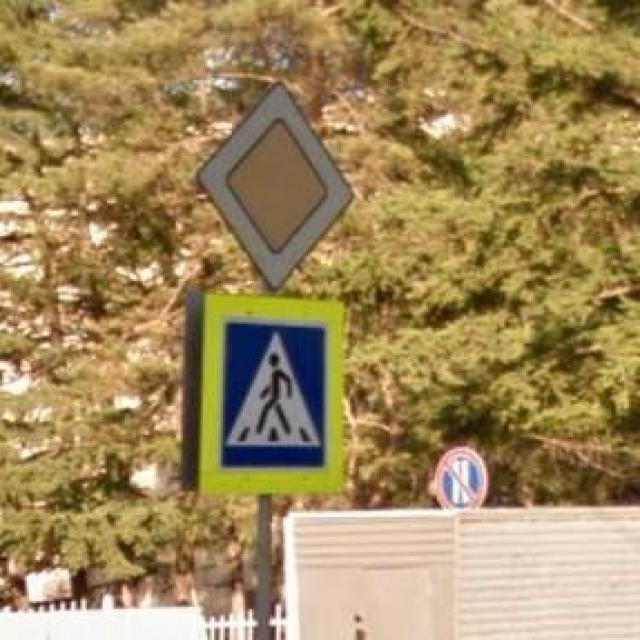Priority road: (196, 76, 357, 297)
crosswalk: (190, 287, 350, 497)
